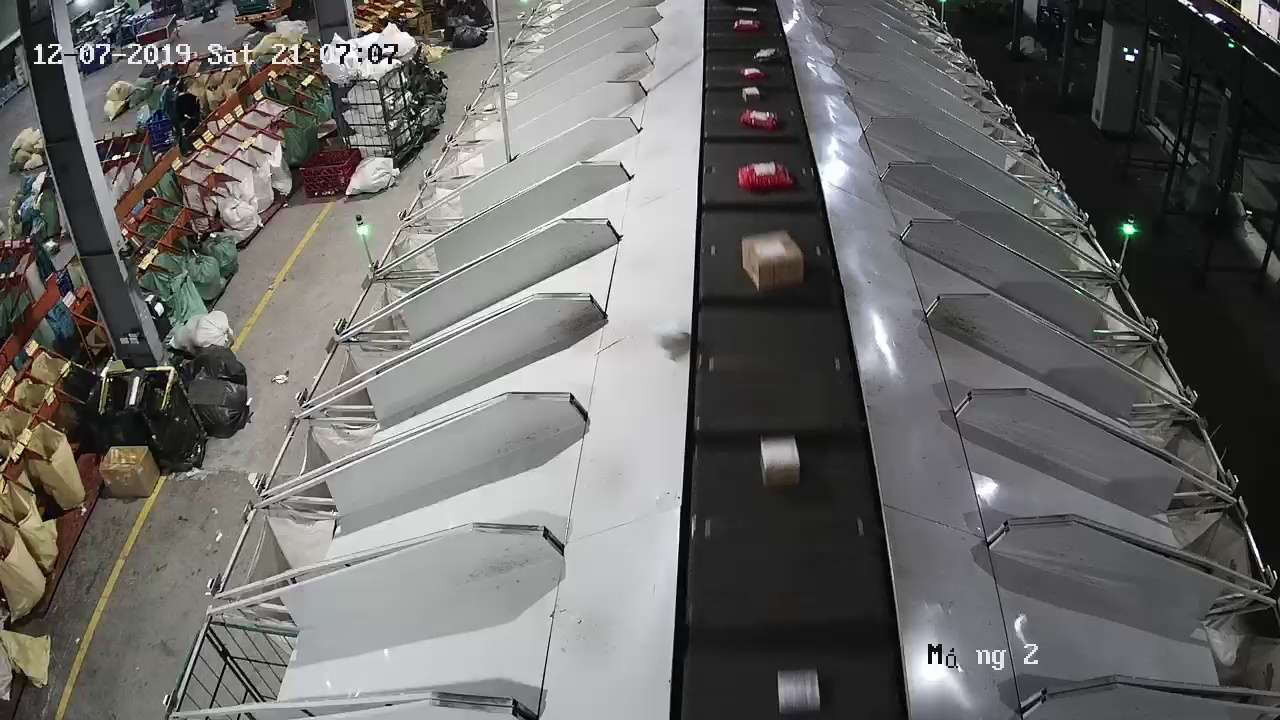parcel: (648, 321, 690, 358)
